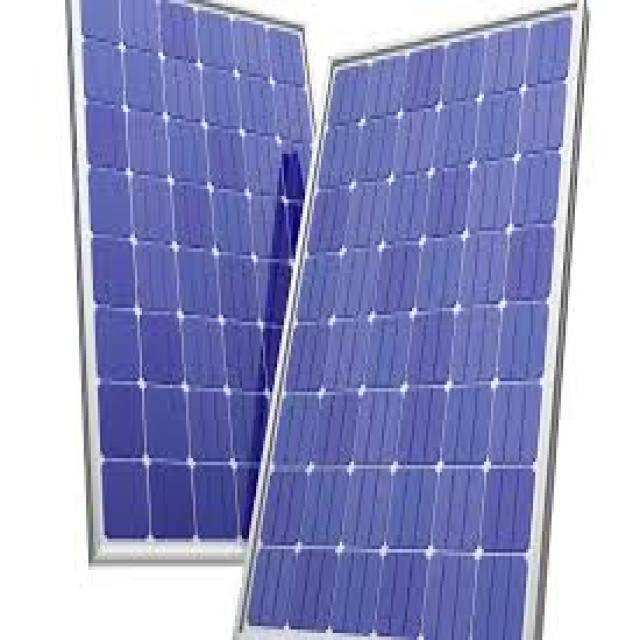Solar: (242, 7, 596, 626), (64, 2, 355, 556)
